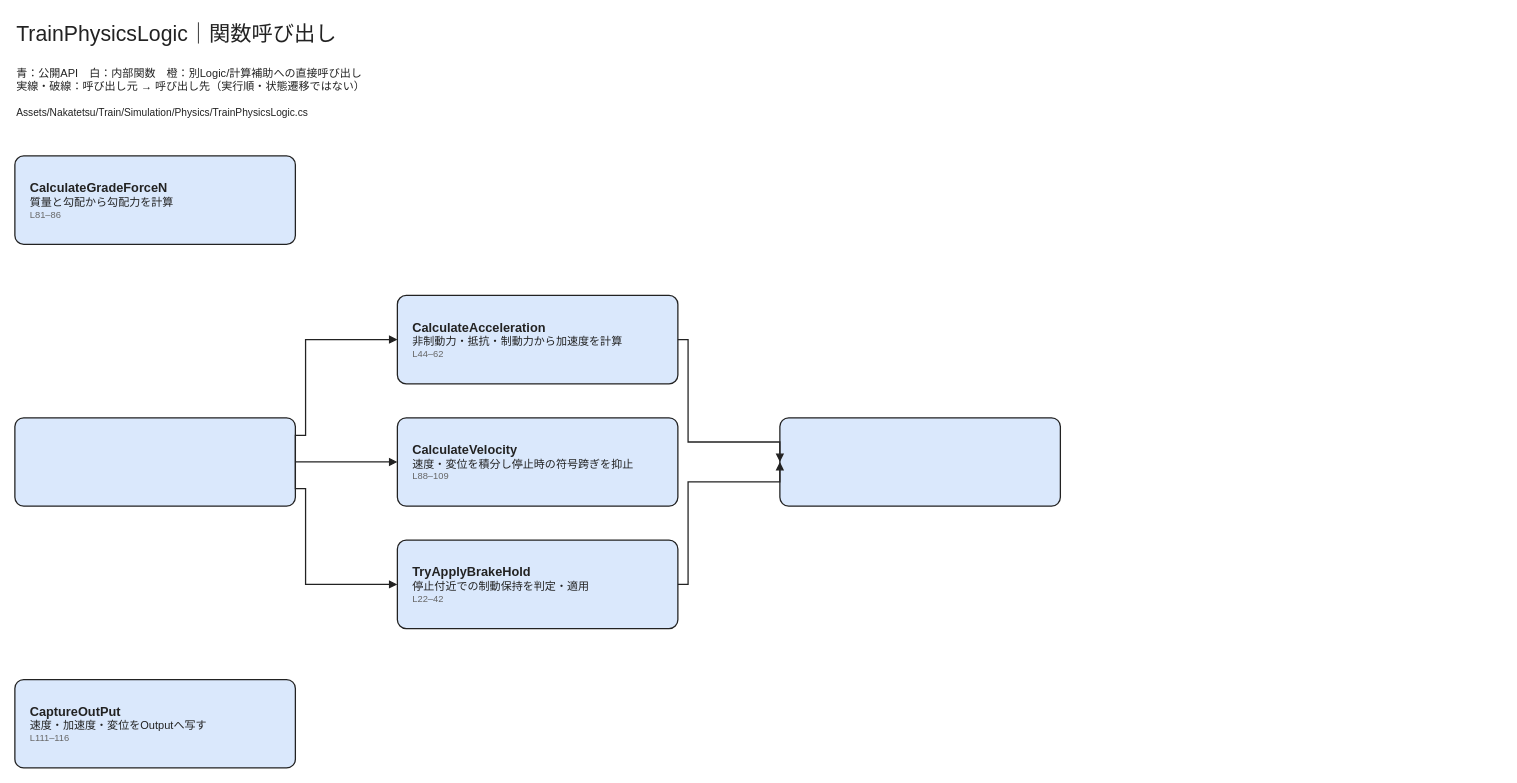
The diagram is 1517 pixels wide and 783 high, and some of its shapes have lost their labels. Here are the shapes that lost their labels. From the top down, the centre of each, then its label:
point 155,461: Calculate 編成物理の更新・計算 L9–20
point 920,461: Calculate Running Resistance Force N 走行方向または停止条件から抵抗力を計算 L64–79
